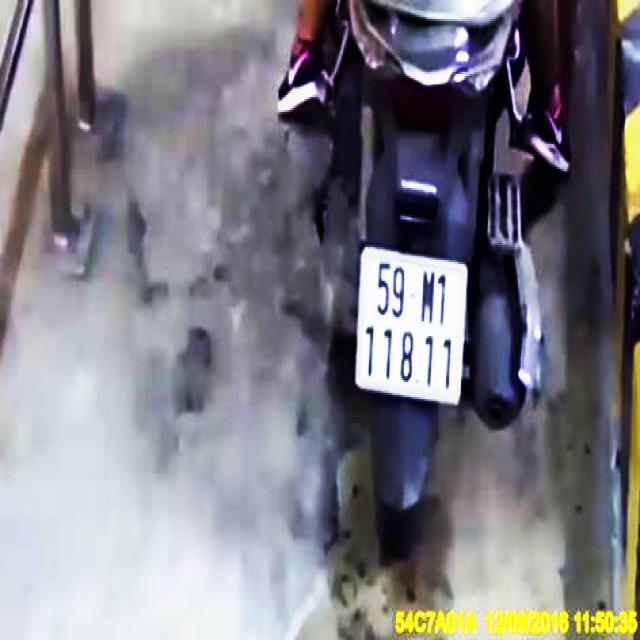license_plate: (358, 251, 465, 404)
